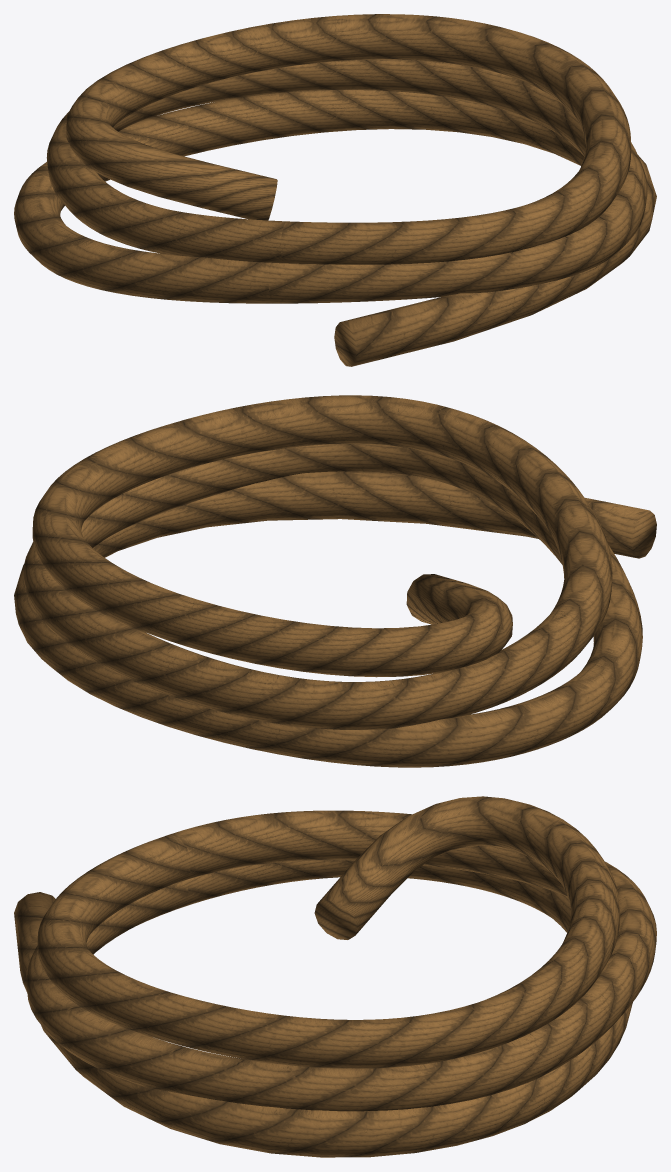
File: rope.fbx
The picture shows the model from 3 angles, top to bottom: view 1: azimuth 30°, elevation 25°; view 2: azimuth 150°, elevation 25°; view 3: azimuth 270°, elevation 25°; orthographic projection. The views are drawn at different scales.
Parts seen in each view (by area): view 1: NurbsPath; view 2: NurbsPath; view 3: NurbsPath.
Part boxes in pixels (bbox=[...]): NurbsPath: bbox=[14, 14, 656, 366]; NurbsPath: bbox=[14, 395, 656, 767]; NurbsPath: bbox=[14, 796, 656, 1157].
Bounding box in the file's own units: 111 × 22.13 × 103.
